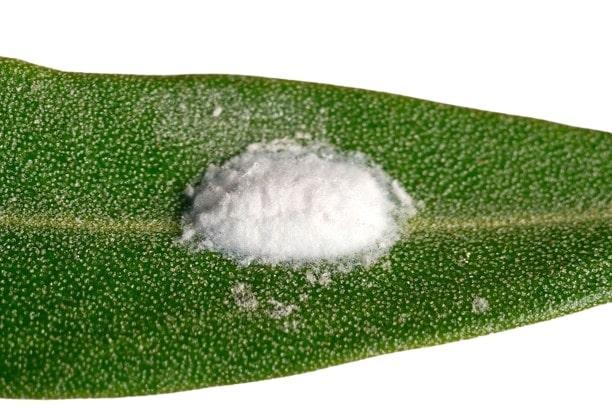Psyllid: (150, 122, 507, 316)
